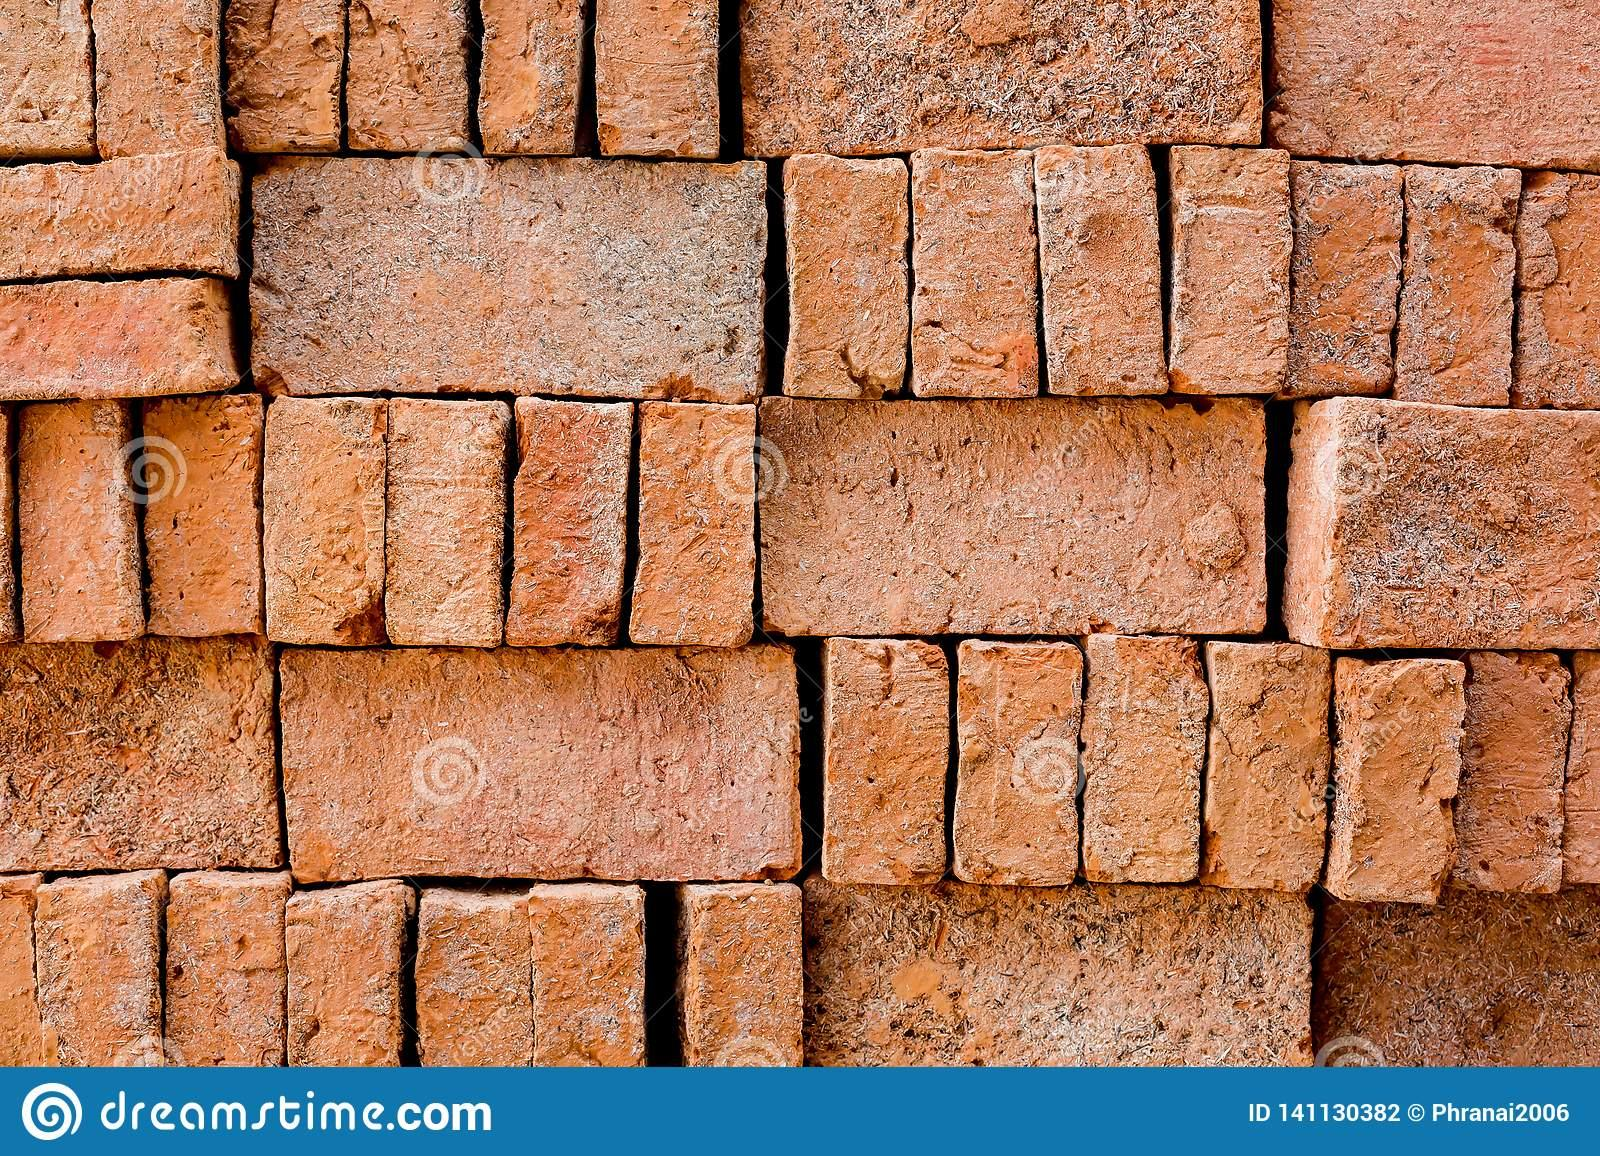brick: (251, 158, 769, 404), (280, 644, 800, 884), (759, 397, 1268, 638), (806, 879, 1313, 1065), (740, 0, 1262, 156), (1319, 397, 1600, 648), (0, 634, 280, 869), (1275, 0, 1600, 169), (1324, 888, 1600, 1065), (1035, 144, 1169, 394), (911, 149, 1039, 397), (1081, 634, 1209, 883), (262, 395, 386, 647), (954, 638, 1081, 884), (509, 395, 632, 647), (1206, 642, 1330, 890), (1169, 145, 1293, 392), (824, 638, 949, 883), (1394, 165, 1522, 404), (783, 154, 907, 399), (631, 401, 755, 646), (1, 144, 224, 279), (388, 397, 508, 647), (21, 402, 144, 643), (0, 277, 239, 400), (1345, 664, 1465, 904), (145, 395, 262, 634), (1457, 652, 1570, 893), (1291, 161, 1404, 395), (36, 880, 164, 1065), (168, 880, 287, 1065), (528, 894, 643, 1067), (93, 1, 224, 154), (287, 892, 399, 1067), (1518, 171, 1600, 409), (417, 898, 532, 1067), (596, 0, 719, 156), (693, 889, 801, 1065), (345, 0, 468, 150), (226, 0, 344, 149), (480, 0, 583, 154), (0, 0, 93, 151)
